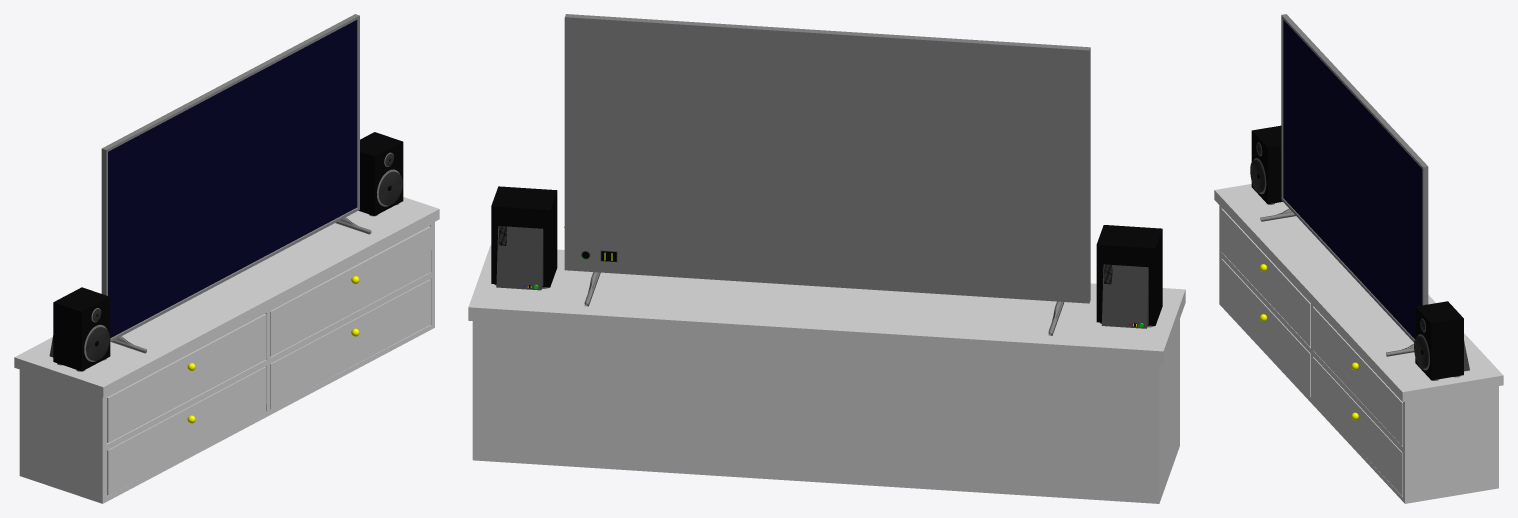
File: tv_stand.glb
3 renders of one model, left to right at view 1: azimuth 30°, elevation 25°; view 2: azimuth 150°, elevation 25°; view 3: azimuth 270°, elevation 25°, orthographic. The views are drawn at different scales.
Parts seen in each view (by area): view 1: Cubo.001, Cubo.008, Cubo.009, Cubo.013, Cubo.010, Cubo.012, Cubo.011, Cubo, Cubo.041, Cubo.042, Cilindro.042, Cilindro.009; view 2: Cubo, Cubo.009, Cubo.008, Cubo.041, Cubo.042, Cubo.043, Cubo.040; view 3: Cubo.001, Cubo.008, Cubo.009, Cubo.013, Cubo.012, Cubo.010, Cubo.011, Cubo, Cubo.042, Cubo.041, Cilindro.009, Cilindro.042.
Part boxes in pixels (x1,y1,x2,y2): Cubo.001: [108, 20, 356, 338]; Cubo.008: [14, 197, 439, 397]; Cubo.009: [19, 222, 434, 503]; Cubo.013: [270, 226, 430, 356]; Cubo.010: [107, 314, 266, 442]; Cubo.012: [270, 279, 430, 409]; Cubo.011: [107, 366, 266, 495]; Cubo: [101, 14, 359, 341]; Cubo.041: [53, 287, 110, 371]; Cubo.042: [358, 132, 403, 215]; Cilindro.042: [378, 171, 402, 205]; Cilindro.009: [86, 327, 109, 360]; Cubo: [564, 14, 1090, 303]; Cubo.009: [472, 319, 1179, 503]; Cubo.008: [468, 245, 1185, 364]; Cubo.041: [1096, 225, 1162, 325]; Cubo.042: [491, 186, 557, 287]; Cubo.043: [496, 226, 543, 290]; Cubo.040: [1101, 264, 1148, 328]; Cubo.001: [1283, 20, 1422, 338]; Cubo.008: [1214, 184, 1503, 401]; Cubo.009: [1219, 205, 1498, 503]; Cubo.013: [1312, 307, 1402, 445]; Cubo.012: [1312, 357, 1402, 495]; Cubo.010: [1221, 209, 1310, 346]; Cubo.011: [1221, 259, 1310, 396]; Cubo: [1281, 14, 1428, 342]; Cubo.042: [1415, 301, 1463, 380]; Cubo.041: [1251, 125, 1282, 204]; Cilindro.009: [1250, 160, 1264, 192]; Cilindro.042: [1414, 336, 1428, 368].
Size of the model in its own units: 9.03 by 5.89 by 5.04.
